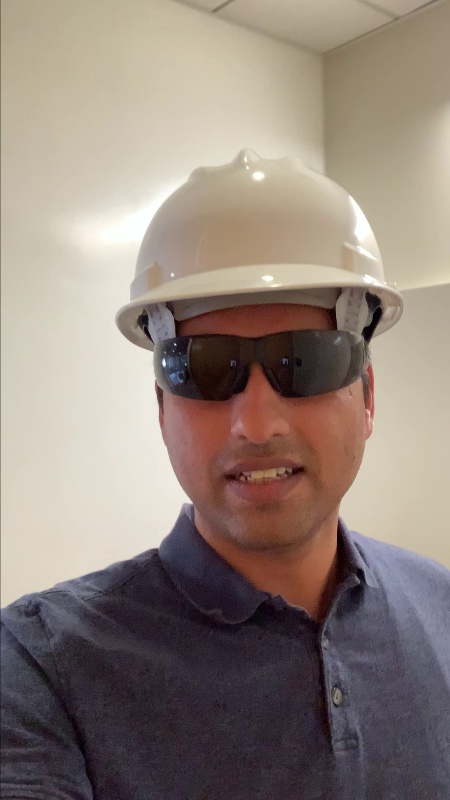glasses: (140, 321, 383, 406)
helmet: (100, 142, 405, 330)
